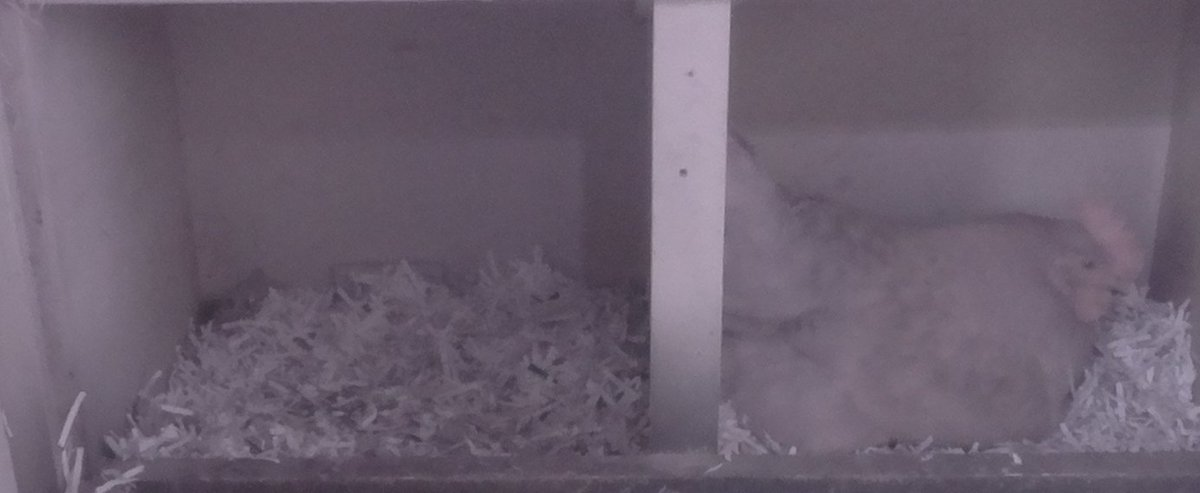hen: (724, 196, 1145, 449)
